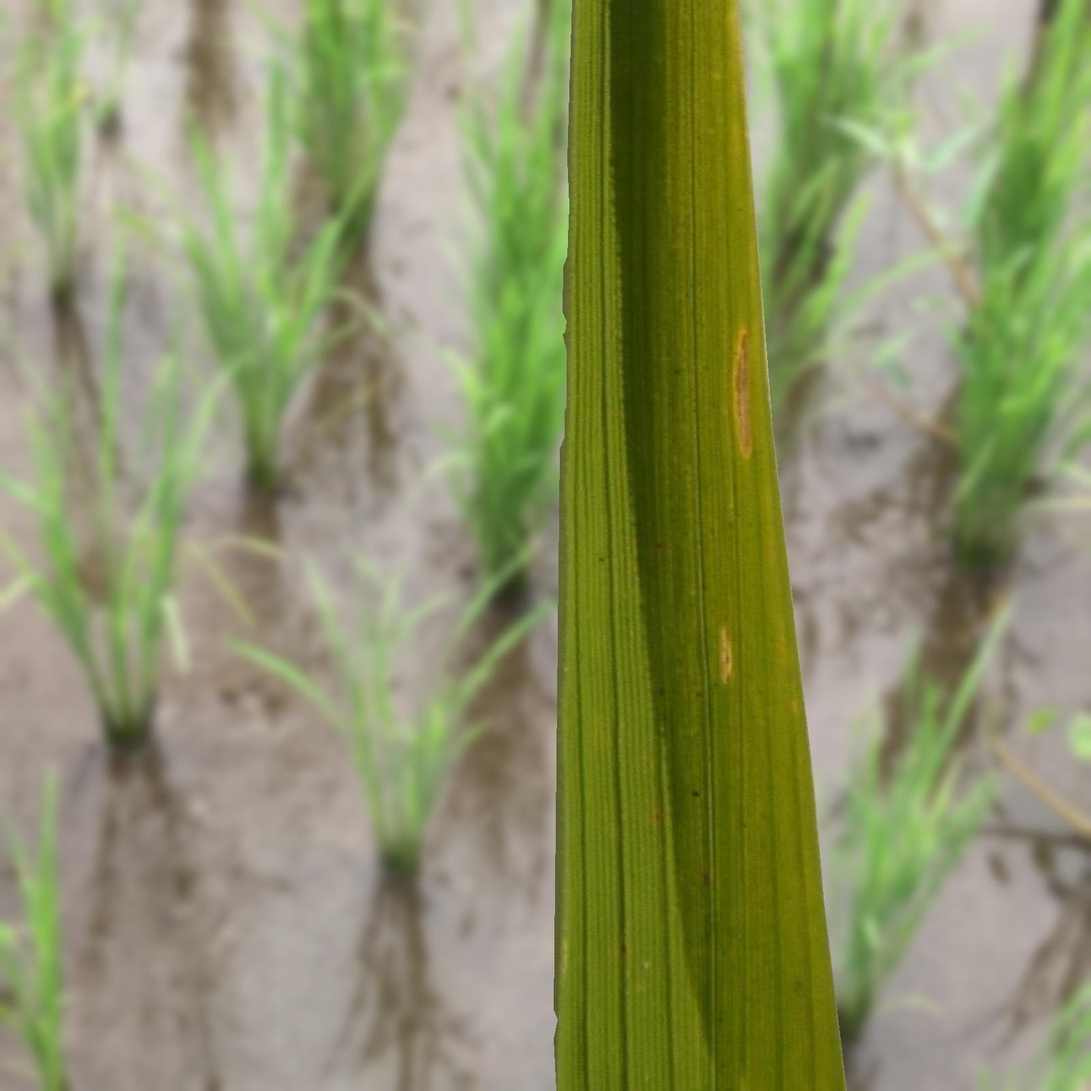BLS: (732, 329, 752, 459), (719, 625, 732, 684)
LEAF: (554, 0, 846, 1090)
